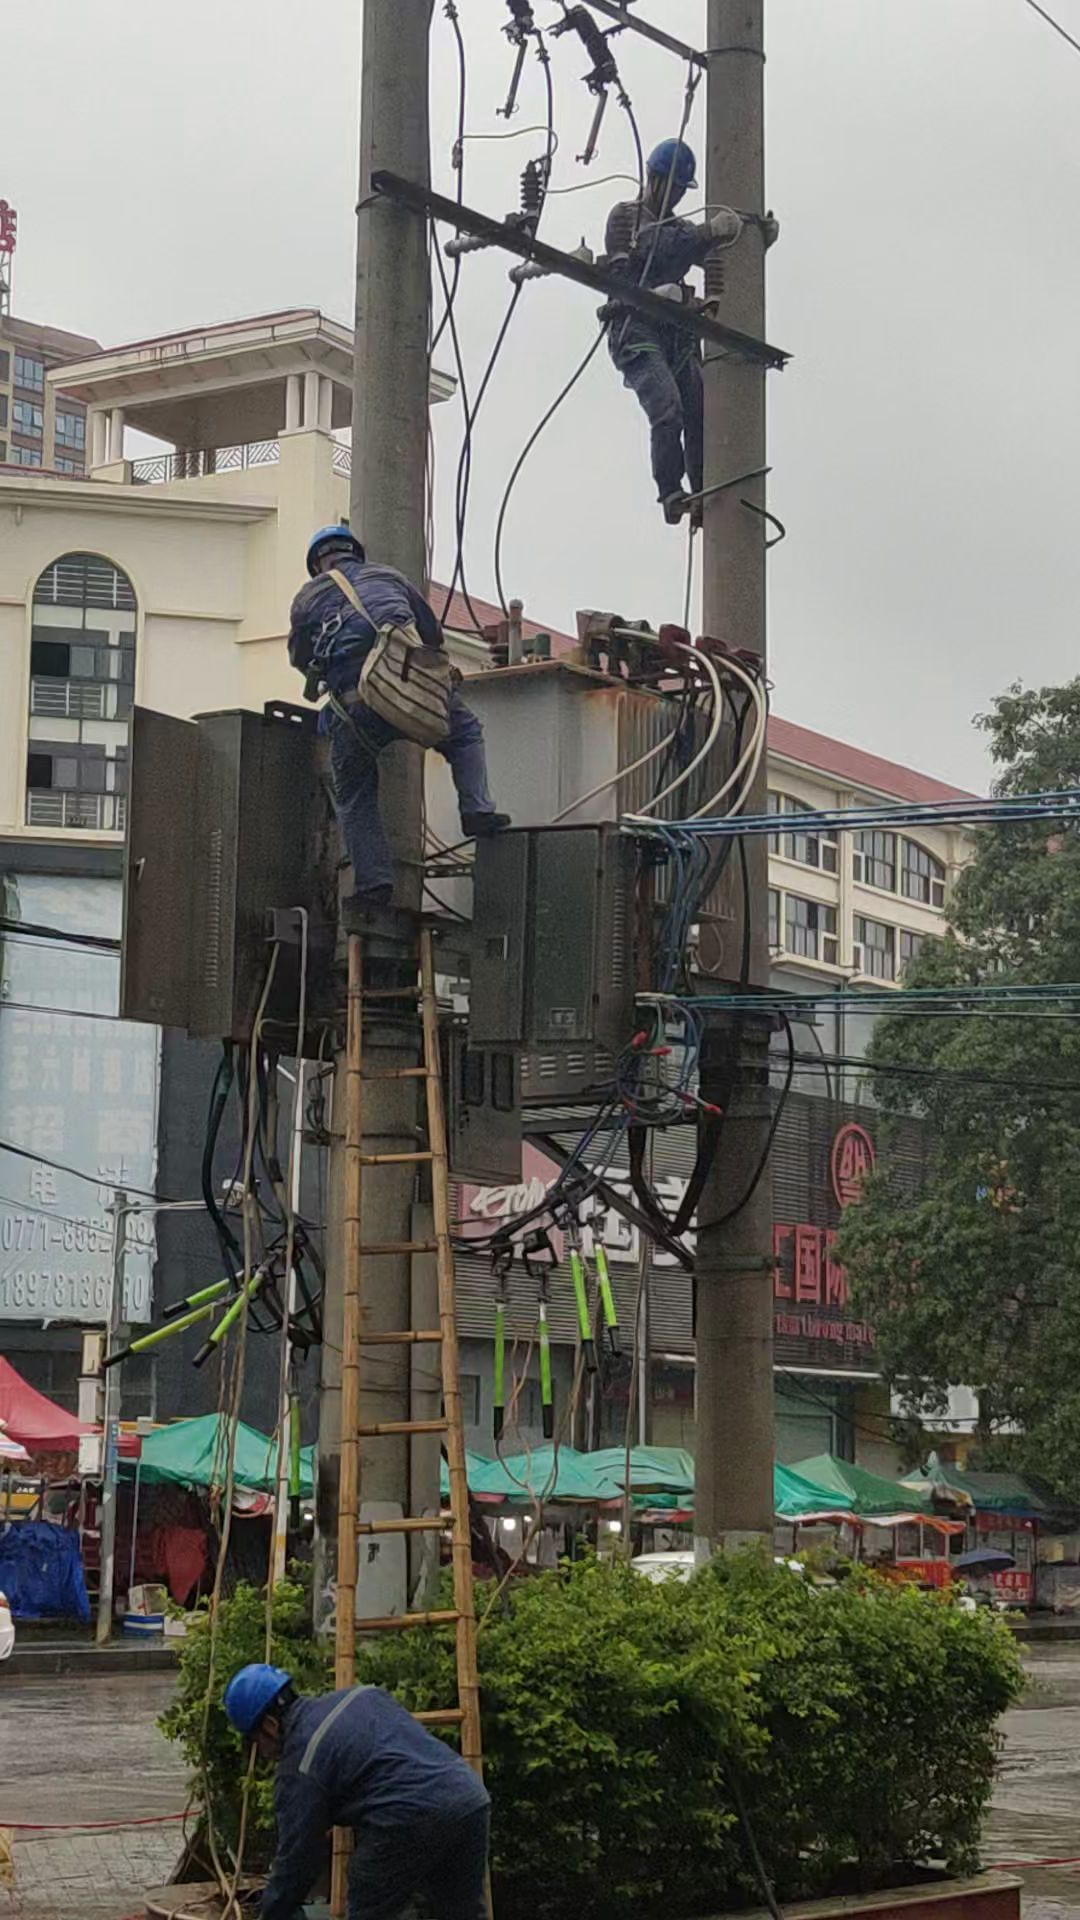downsuit: (330, 698, 487, 896), (327, 1816, 493, 1920), (615, 335, 708, 497)
halt: (224, 1663, 293, 1752), (643, 139, 699, 197), (304, 525, 365, 577)
inear: (258, 1711, 294, 1746)
person: (283, 523, 500, 911), (214, 1662, 492, 1920), (598, 137, 728, 521)
upsuit: (275, 1683, 489, 1836), (290, 557, 439, 695), (603, 201, 720, 305)
wglove: (711, 212, 743, 242)
